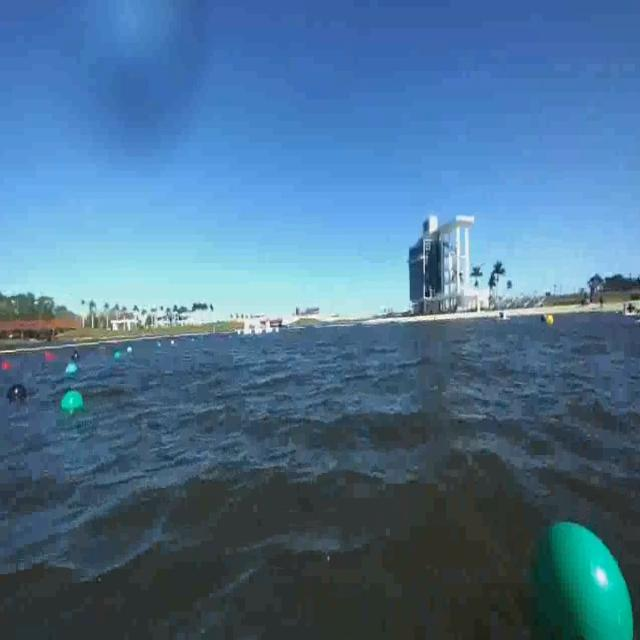green-buoy: (494, 504, 639, 638), (62, 393, 85, 419)
yellow-buoy: (545, 313, 554, 327)
